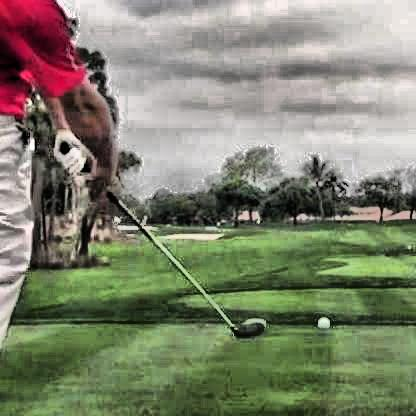golfball: (314, 314, 328, 329)
